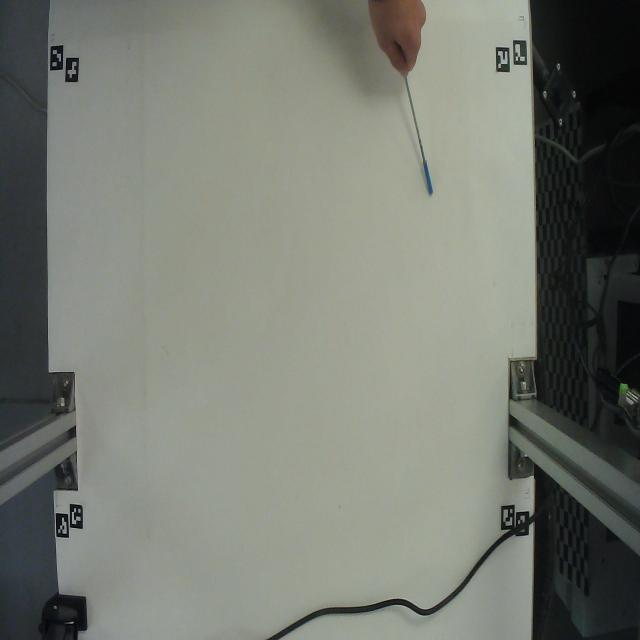Pres: (389, 69, 438, 211)
